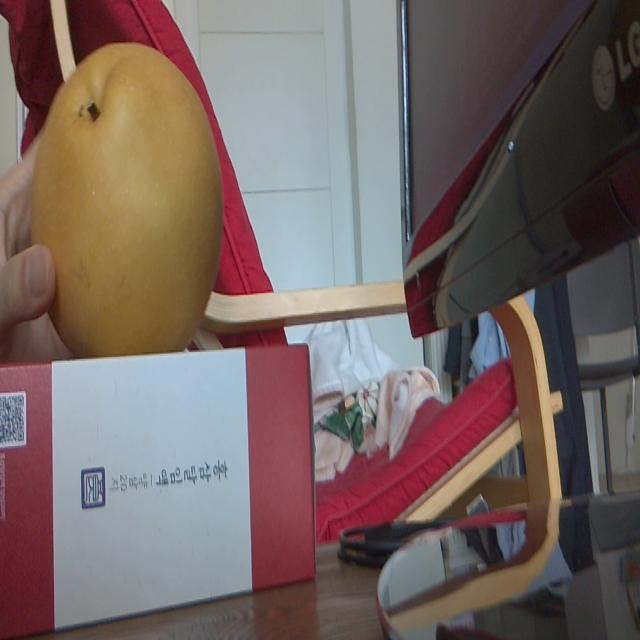pear: (29, 41, 223, 360)
